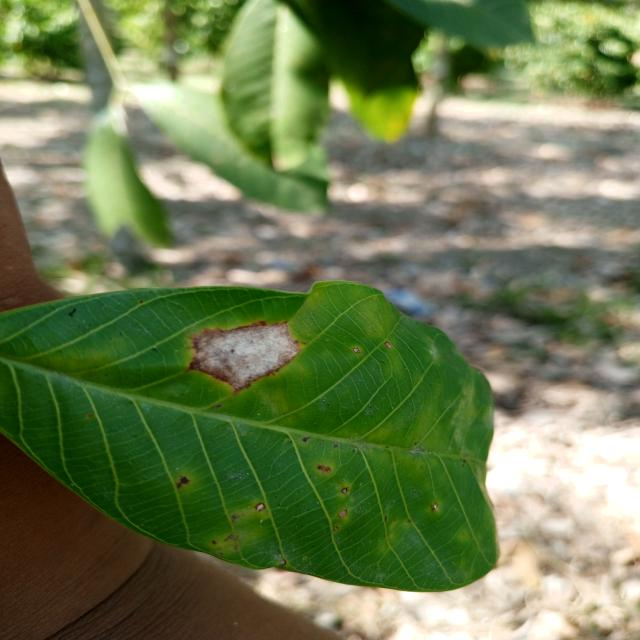Colletotrichum: (255, 502, 266, 512), (384, 342, 393, 349), (352, 347, 361, 353), (341, 487, 348, 494), (333, 526, 339, 530)
Leaf-Blight: (185, 320, 302, 394)
